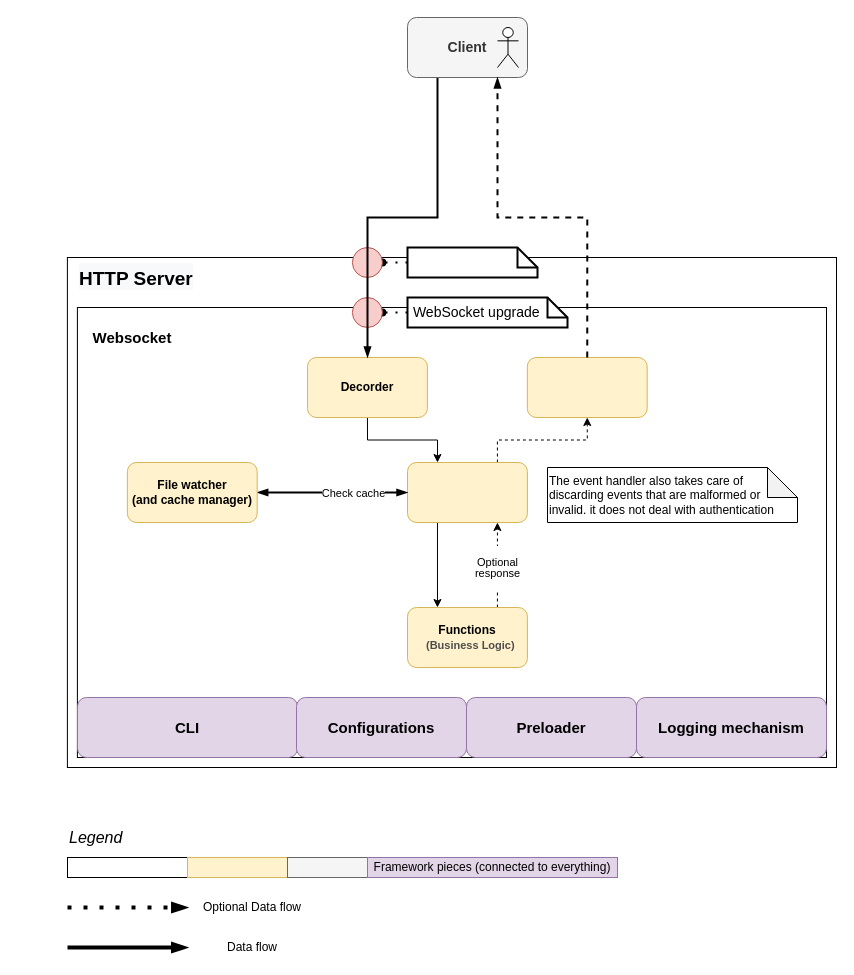
This 854x975 diagram has some shape labels left out. Each missing label, with the centre of its shape:
"Encoder" goes at (586,387).
"Event handler" goes at (466,492).
"External" goes at (327,867).
"First connection" goes at (472,262).
"Module" goes at (237,867).
"Wrapper" goes at (127,867).
